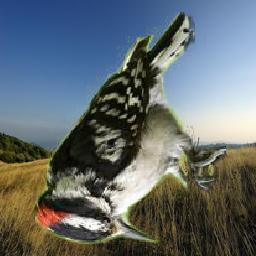Woodpecker: (36, 13, 227, 248)
